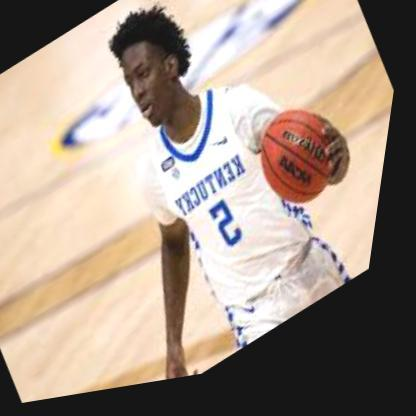basketball: (243, 100, 364, 235)
